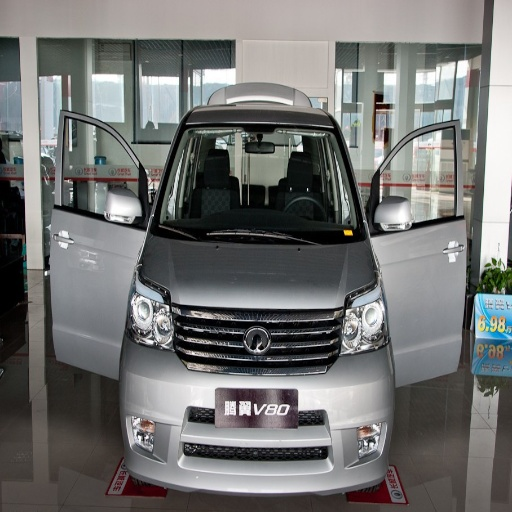front_bumper: (124, 309, 390, 490)
front_right_light: (128, 282, 173, 348)
hood: (139, 233, 377, 359)
left_mirror: (372, 197, 411, 235)
